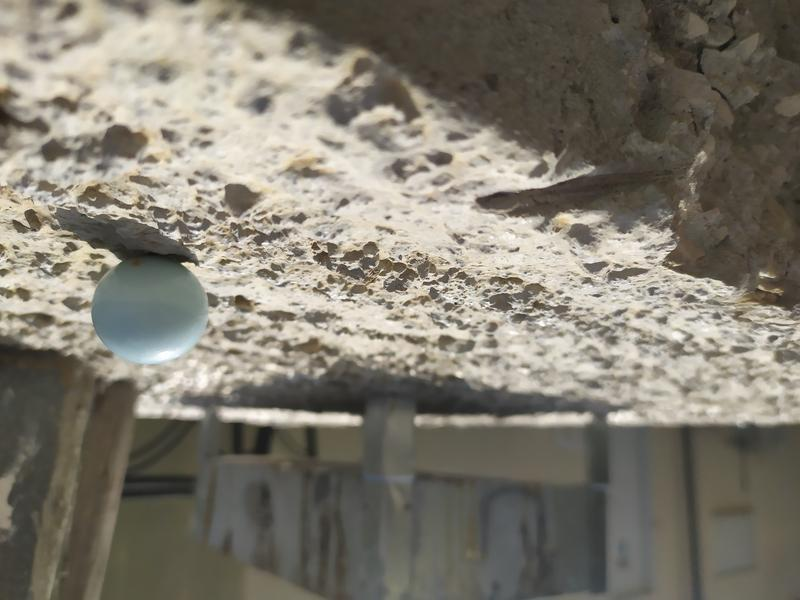Warning: (87, 252, 213, 368)
